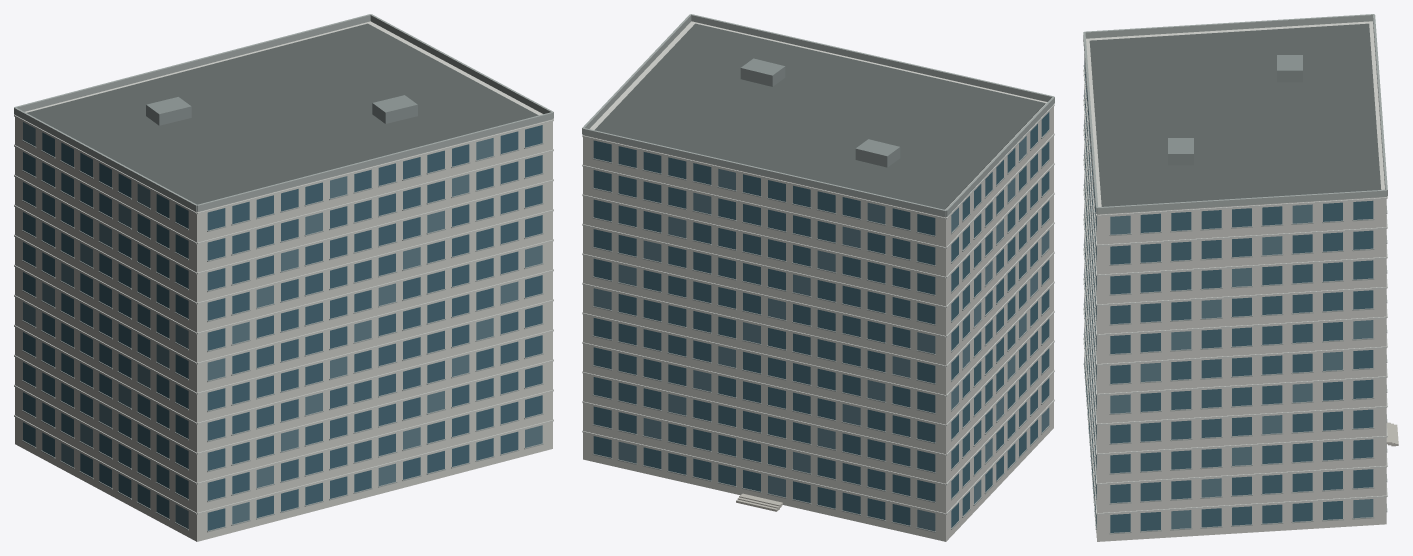
Rendered from 东侧办公园区-006.glb.
3 renders of one model, left to right at view 1: azimuth 30°, elevation 25°; view 2: azimuth 150°, elevation 25°; view 3: azimuth 270°, elevation 25°, orthographic.
Parts seen in each view (by area): view 1: 东侧办公园区-006; view 2: 东侧办公园区-006; view 3: 东侧办公园区-006.
Boxes of the visible parts, x1,y1,x2,y2 form: 东侧办公园区-006: (14, 14, 553, 541); 东侧办公园区-006: (582, 14, 1054, 541); 东侧办公园区-006: (1083, 14, 1398, 541).
Bounding box in the file's own units: 49.52 × 40.42 × 33.99.
